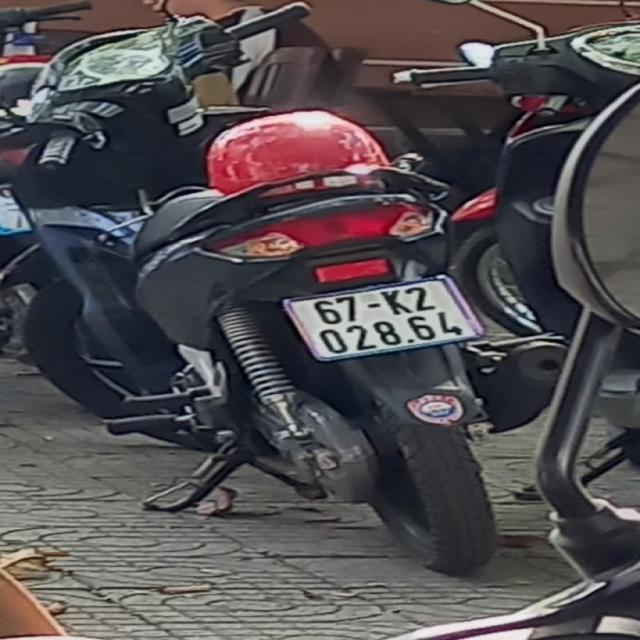0: (316, 328, 349, 352)
2: (346, 324, 378, 350), (408, 287, 436, 310)
4: (437, 310, 463, 336)
6: (406, 314, 436, 340), (313, 300, 341, 325)
7: (334, 296, 358, 322)
8: (374, 320, 403, 347)
K: (380, 289, 413, 315)
